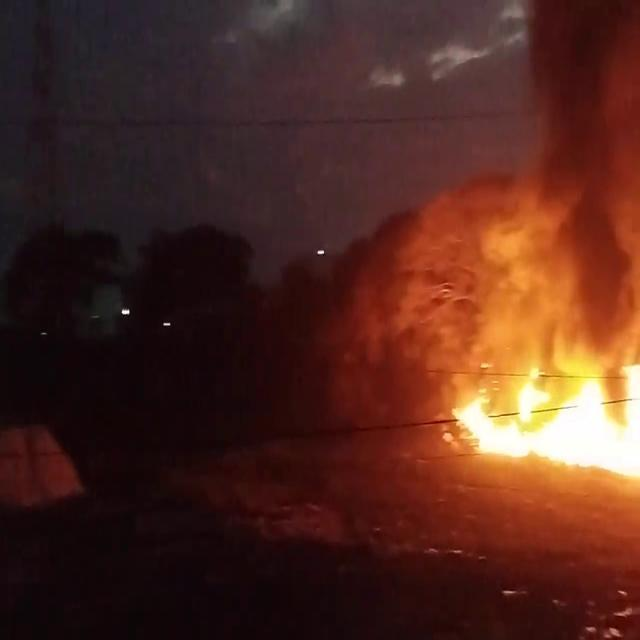Fire: (441, 330, 640, 484)
Smoke: (470, 1, 640, 335)
